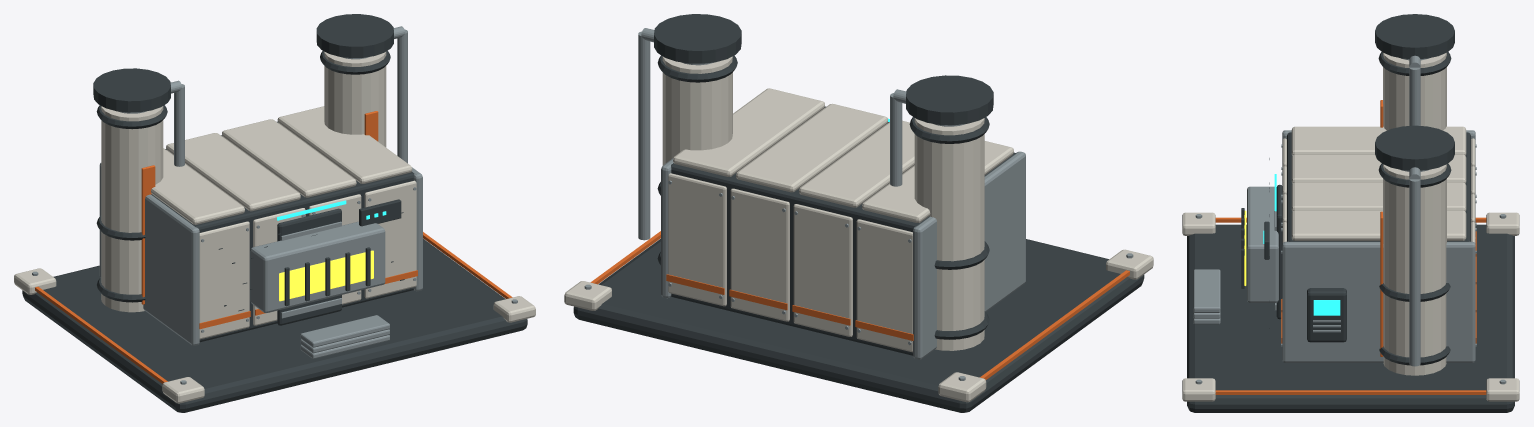
The model's file is SM_CopperSmelter_Body.fbx.
3 renders of one model, left to right at view 1: azimuth 30°, elevation 25°; view 2: azimuth 150°, elevation 25°; view 3: azimuth 270°, elevation 25°, orthographic. The views are drawn at different scales.
Parts seen in each view (by area): view 1: SM_CopperSmelter_Body; view 2: SM_CopperSmelter_Body; view 3: SM_CopperSmelter_Body.
Part boxes in pixels (x1,y1,x2,y2): SM_CopperSmelter_Body: (14,14,535,412); SM_CopperSmelter_Body: (564,14,1153,412); SM_CopperSmelter_Body: (1182,14,1519,412).
Size of the model in its own units: 532 by 422 by 333.
